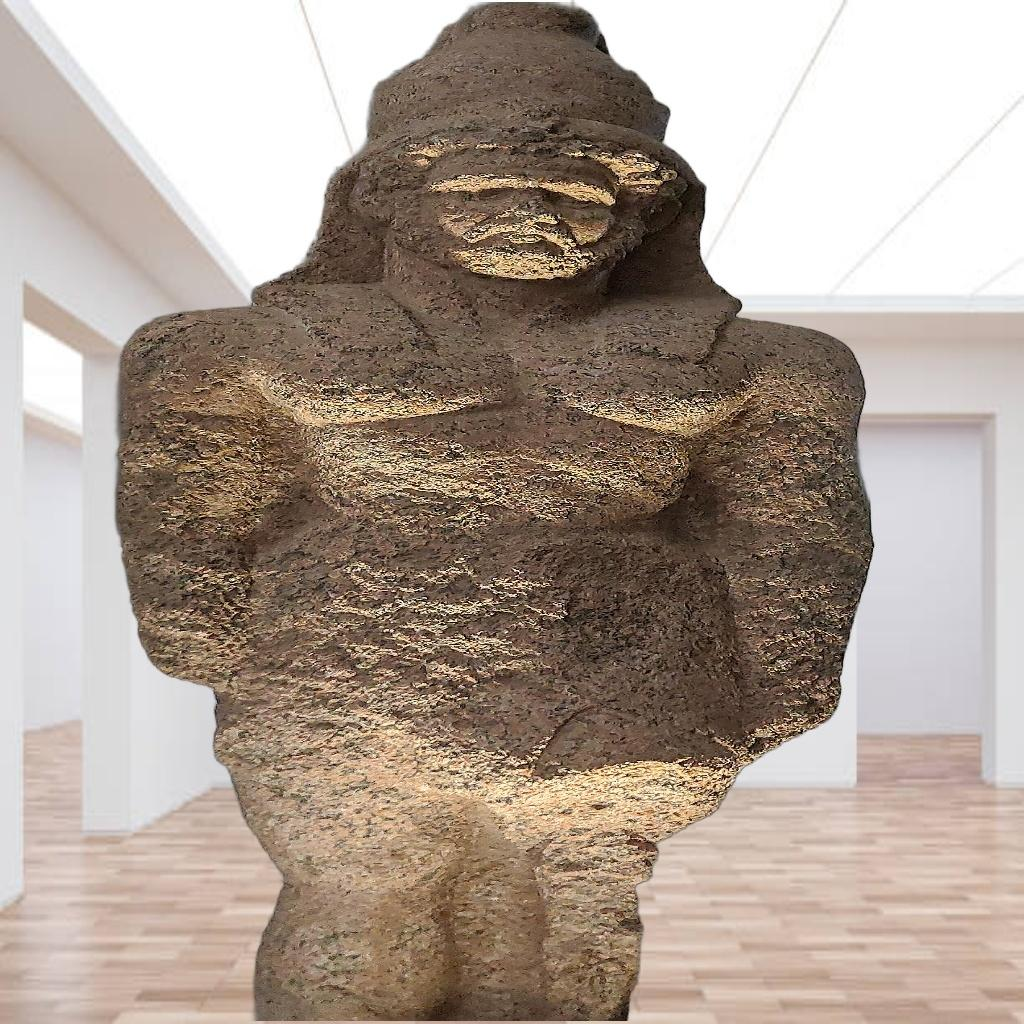Statue of Carcala: (112, 2, 878, 1021)
